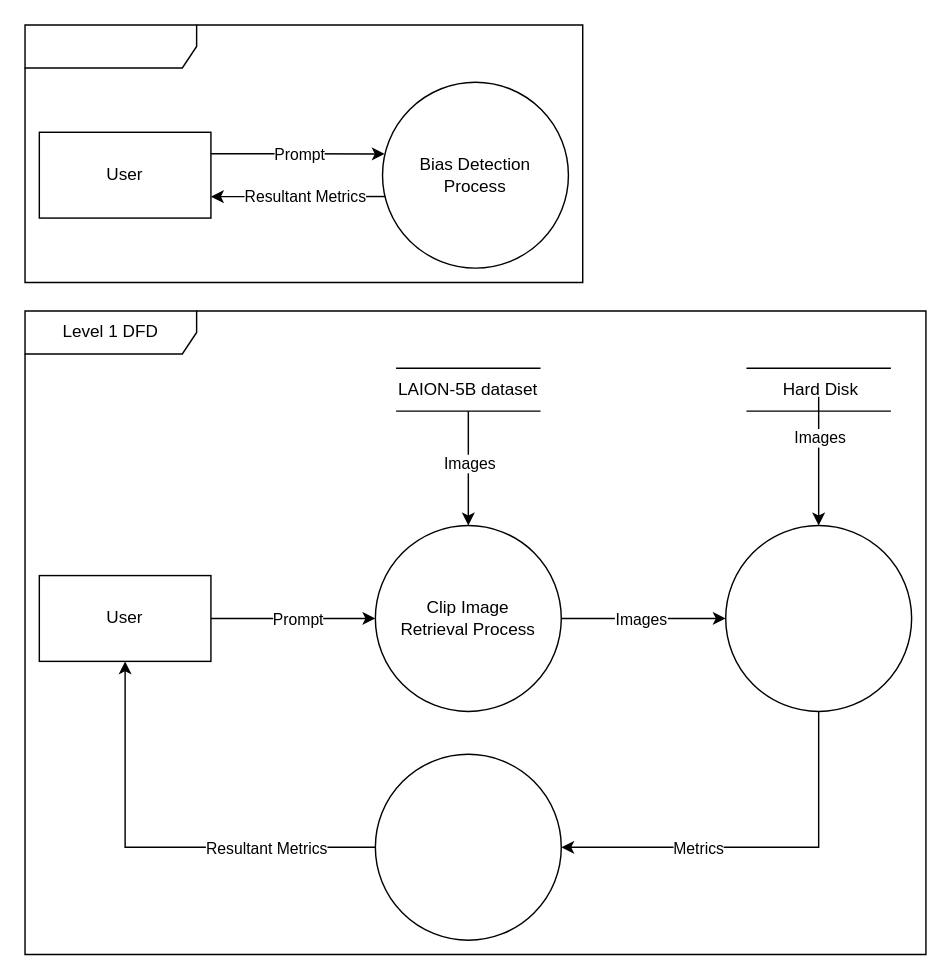
Some shapes in this 951 by 980 pixel diagram are drawn without their labels. The shapes that lost their labels are listed below. From the top down, each one's centre as x and y in pixels, then its label:
At pixel 303 153: "Context Level DFD".
At pixel 818 617: "Feature Extraction Process".
At pixel 467 846: "Metric Visualisation Process".
